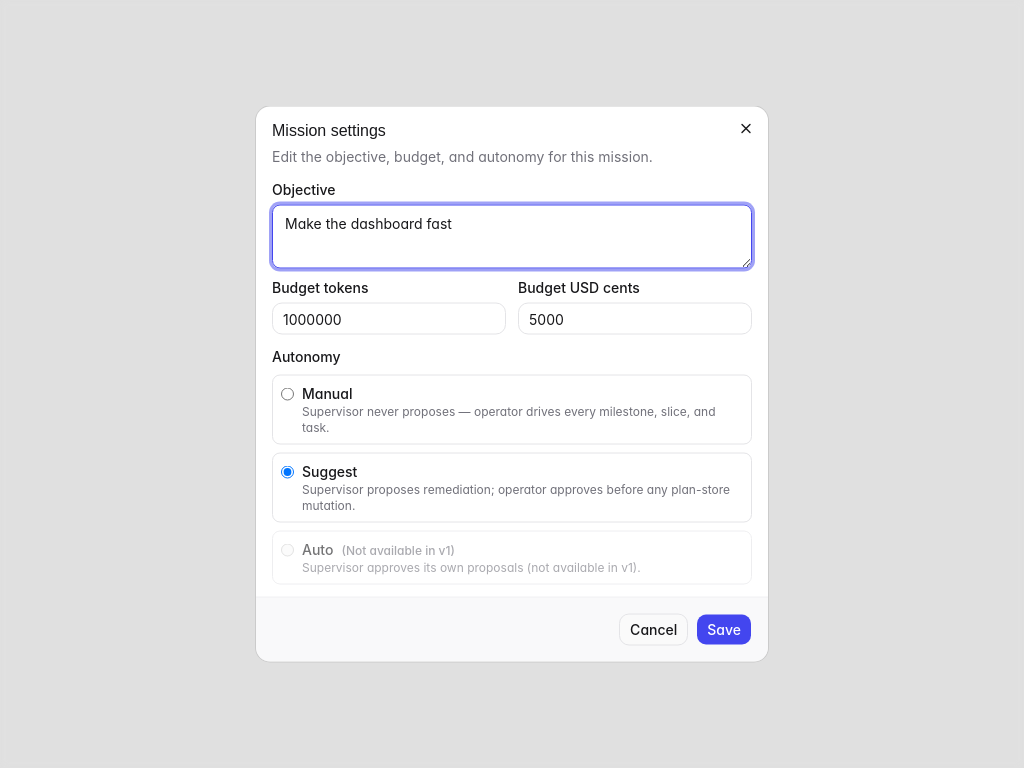
Test: mission_settings_dialog — budget validation › rejects a non-integer budget value
Replace the text in the number field with test id "mission-budget-tokens" with "100.5" at (389, 318), box [272, 302, 506, 334]
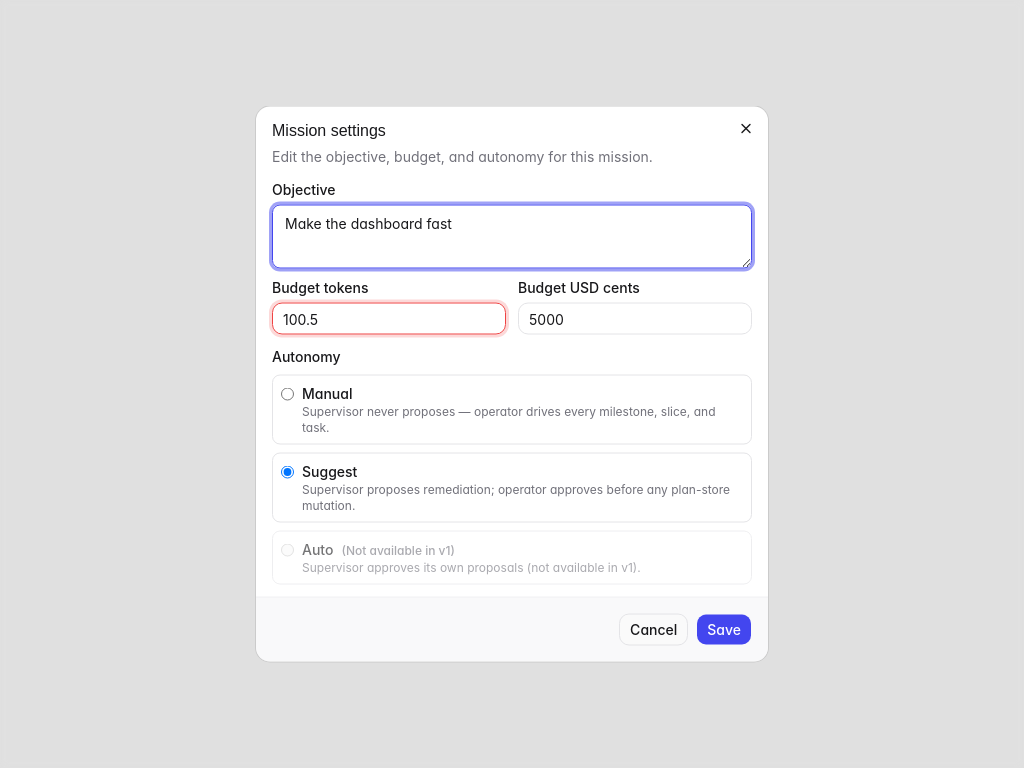
Click the button with test id "mission-settings-save" at (724, 630), box [696, 614, 752, 646]
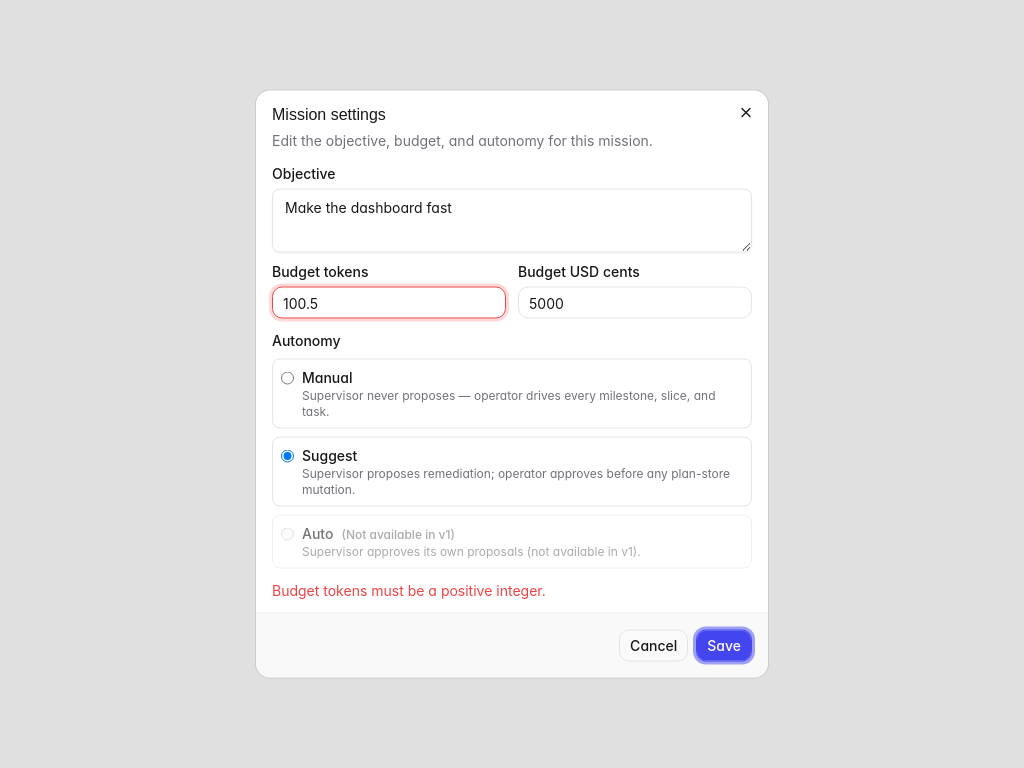
Check: the message "Budget tokens must be a positive integer." is shown, box [272, 582, 546, 598]
